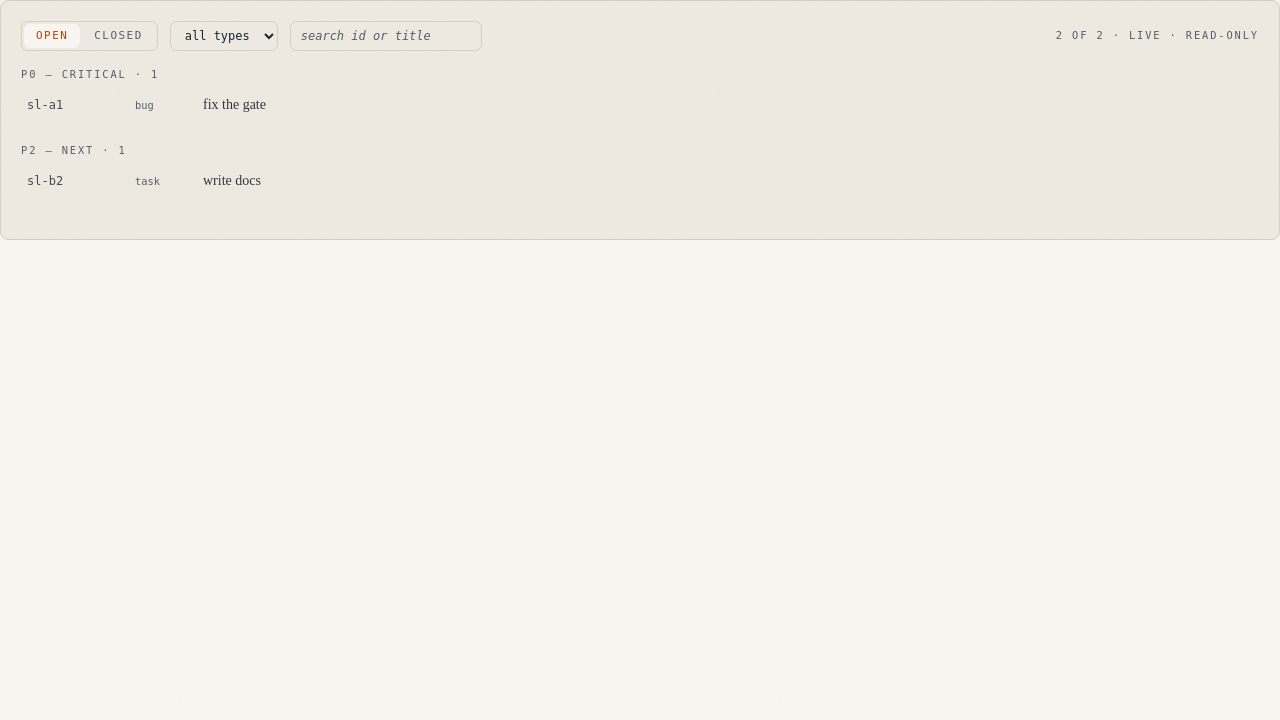
WorkView › hides actions when the server is read-only
What coordinates should you click on to do the following:
click the text "fix the gate"
I would click on:
 (234, 105)
Its box is [203,95,266,115].
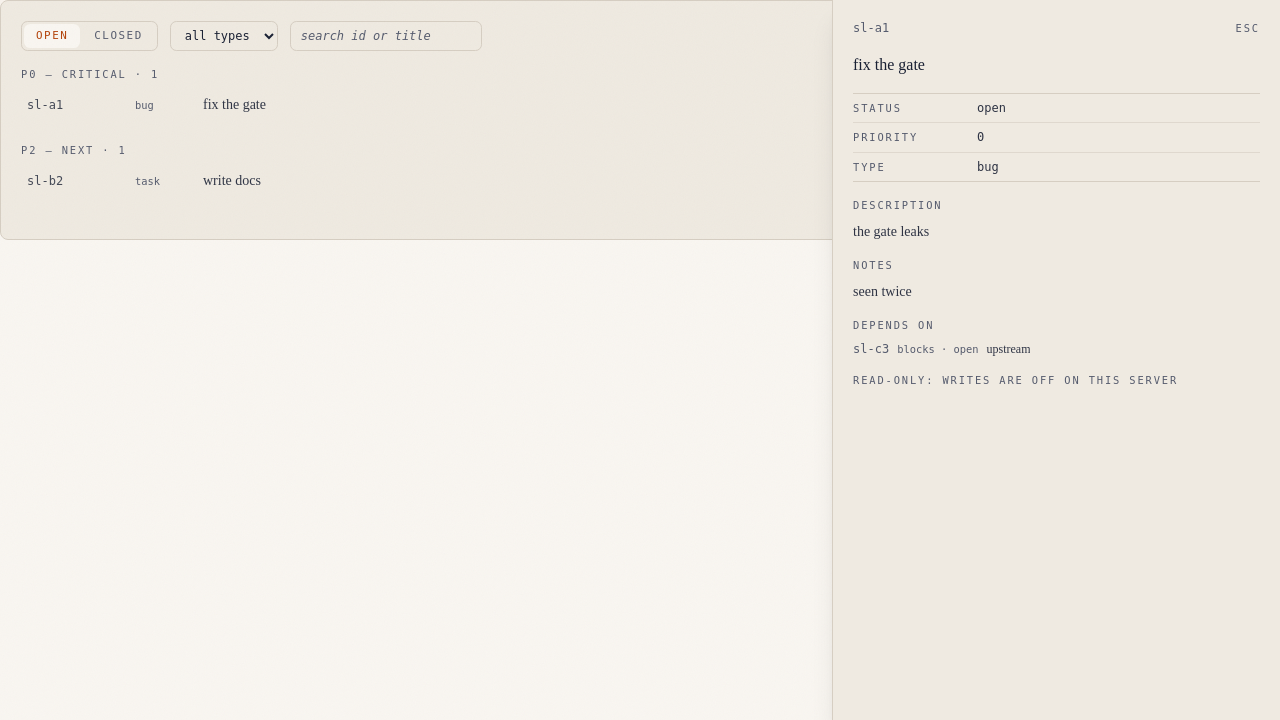
Expected: the text "read-only: writes are off on this server" is shown, [853,374,1178,386]
